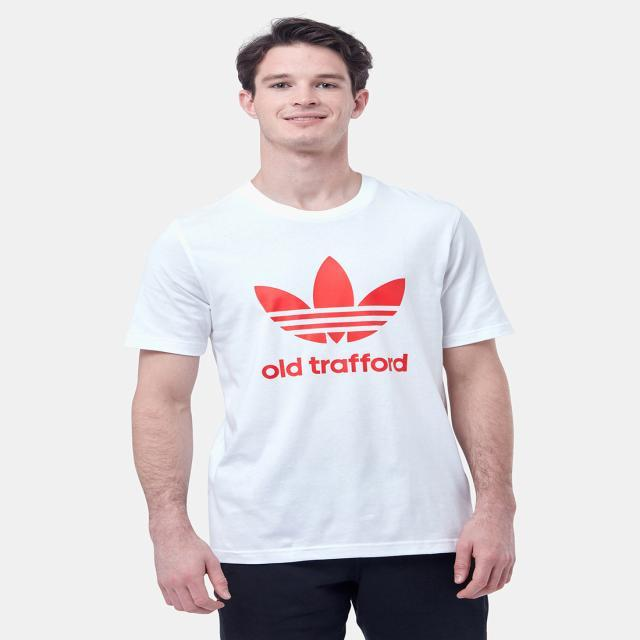Adidas: (248, 252, 414, 350)
